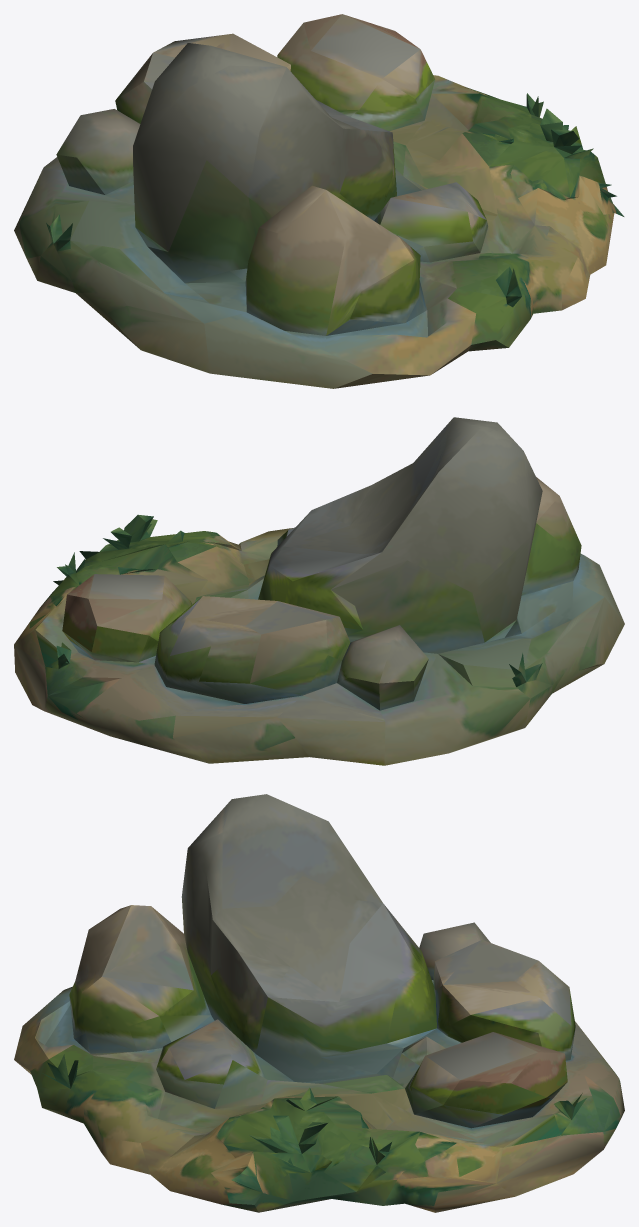
3 renders of one model, top to bottom at view 1: azimuth 30°, elevation 25°; view 2: azimuth 150°, elevation 25°; view 3: azimuth 270°, elevation 25°, orthographic. The views are drawn at different scales.
Parts seen in each view (by area): view 1: river_rocks; view 2: river_rocks; view 3: river_rocks.
Boxes of the visible parts, x1=… form: river_rocks: x1=14, y1=14, x2=624, y2=388; river_rocks: x1=14, y1=417, x2=624, y2=765; river_rocks: x1=14, y1=794, x2=624, y2=1212.
Bounding box in the file's own units: 0.8809 × 0.4505 × 0.9826.
Materials: 1 (1 with a texture image).
